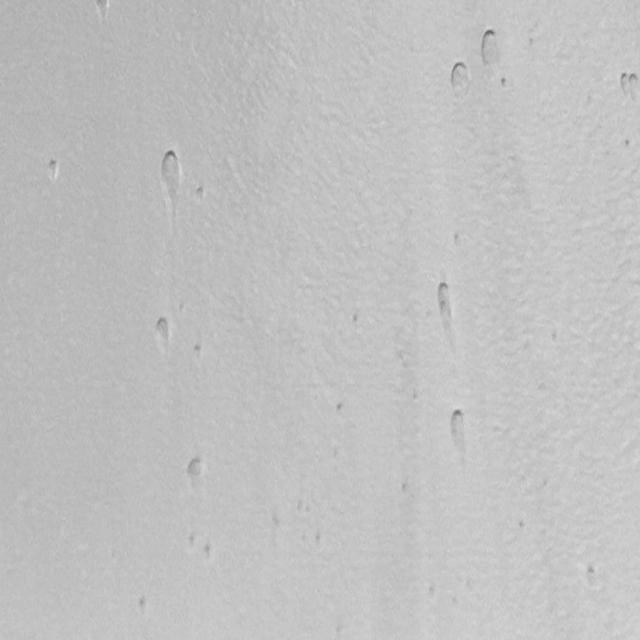pin holes: (157, 146, 185, 202), (432, 281, 457, 327), (447, 408, 472, 449), (182, 452, 208, 488), (449, 60, 474, 96), (479, 28, 502, 63), (150, 314, 174, 347), (617, 69, 640, 99), (583, 564, 605, 590), (43, 156, 63, 182), (90, 0, 113, 22), (449, 228, 468, 250), (350, 309, 368, 332), (193, 184, 209, 204), (135, 594, 151, 614), (202, 542, 216, 563), (187, 533, 201, 552), (312, 530, 325, 550), (334, 401, 348, 418), (518, 518, 530, 537), (622, 136, 636, 152), (401, 477, 412, 496), (193, 342, 206, 358), (500, 75, 513, 91), (427, 582, 437, 602), (305, 503, 312, 518), (298, 498, 304, 515), (413, 388, 419, 404)
